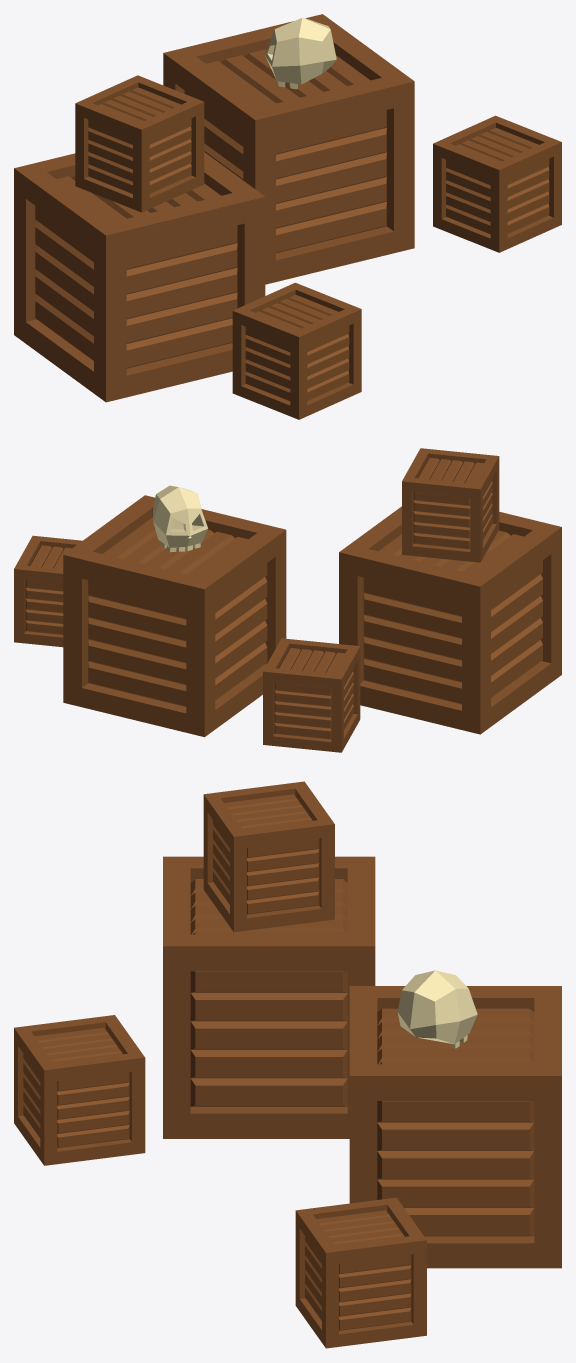
Rendered from decor4.fbx.
3 views of the same model, one above another, from view 1: azimuth 30°, elevation 25°; view 2: azimuth 150°, elevation 25°; view 3: azimuth 270°, elevation 25° (orthographic). The views are drawn at different scales.
Visible parts, largest first — view 1: wooden box.032, wooden box.034, wooden box.031, wooden box.033, wooden box.037, wooden box.036; view 2: wooden box.034, wooden box.032, wooden box.031, wooden box.035, wooden box.037, wooden box.036; view 3: wooden box.034, wooden box.032, wooden box.031, wooden box.033, wooden box.037, wooden box.036.
Boxes of the visible parts, bbox=[...] form: wooden box.032: bbox=[14, 152, 265, 402]; wooden box.034: bbox=[163, 14, 414, 284]; wooden box.031: bbox=[75, 75, 204, 212]; wooden box.033: bbox=[232, 282, 361, 419]; wooden box.037: bbox=[433, 115, 561, 252]; wooden box.036: bbox=[265, 17, 336, 89]; wooden box.034: bbox=[63, 495, 286, 737]; wooden box.032: bbox=[339, 506, 561, 734]; wooden box.031: bbox=[402, 448, 499, 562]; wooden box.035: bbox=[263, 638, 360, 752]; wooden box.037: bbox=[14, 535, 82, 647]; wooden box.036: bbox=[153, 485, 207, 552]; wooden box.034: bbox=[349, 986, 561, 1268]; wooden box.032: bbox=[163, 856, 375, 1138]; wooden box.031: bbox=[203, 781, 334, 932]; wooden box.033: bbox=[14, 1015, 145, 1165]; wooden box.037: bbox=[295, 1197, 426, 1348]; wooden box.036: bbox=[397, 970, 477, 1048].
Size of the model in its own units: 1123 by 508 by 877.
